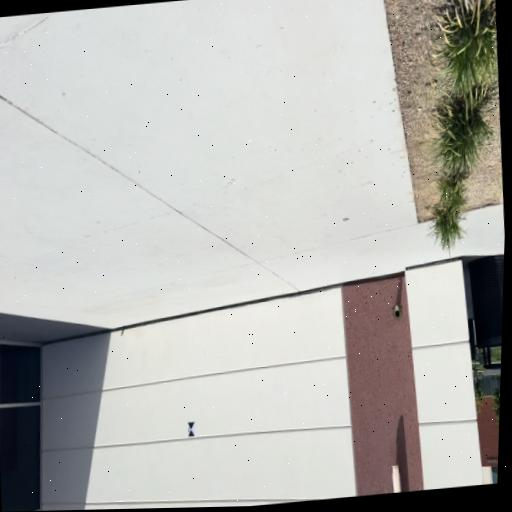target7: (188, 421, 196, 436)
